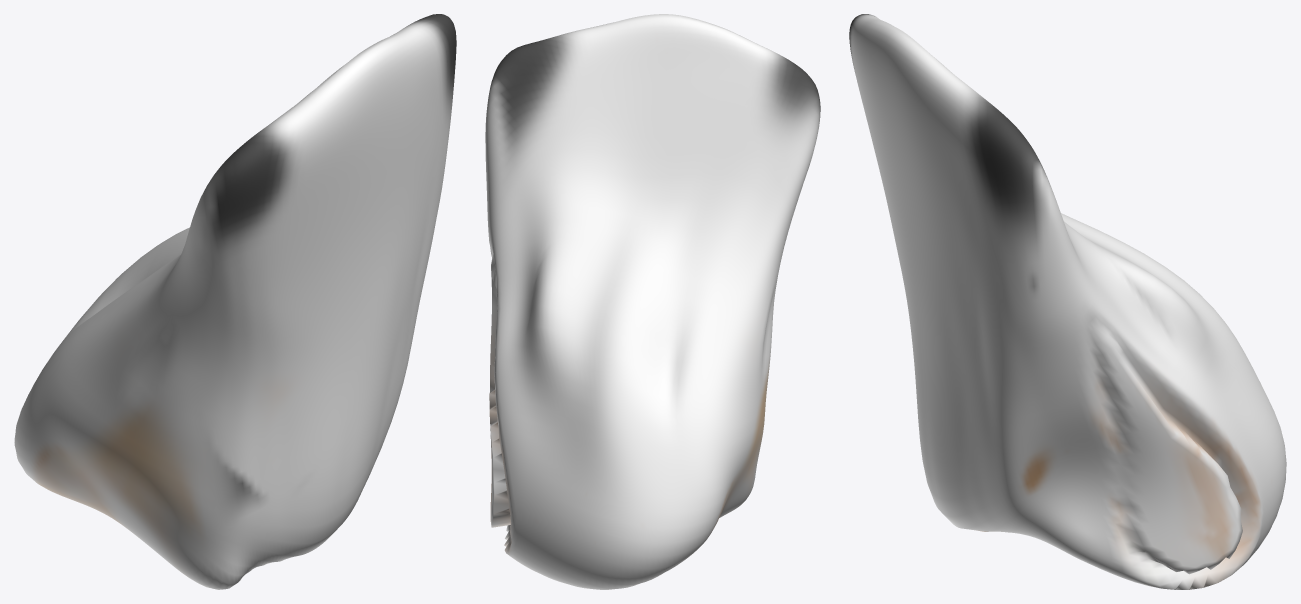
The model's file is 32_class_6.glb.
The picture shows the model from 3 angles, left to right: view 1: azimuth 30°, elevation 25°; view 2: azimuth 150°, elevation 25°; view 3: azimuth 270°, elevation 25°; orthographic projection. The views are drawn at different scales.
Visible parts, largest first — view 1: 32; view 2: 32; view 3: 32.
Boxes of the visible parts, <box> form: 32: <box>14,14,456,589</box>; 32: <box>485,14,820,589</box>; 32: <box>849,14,1286,589</box>.
Size of the model in its own units: 0.2173 by 0.3269 by 0.2398.
1 material, 1 textured.
